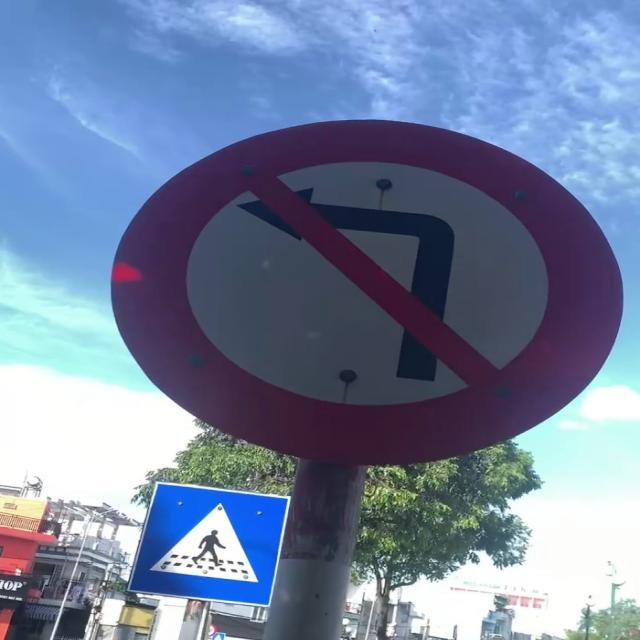Cam_Re_Trai: (109, 115, 623, 478)
